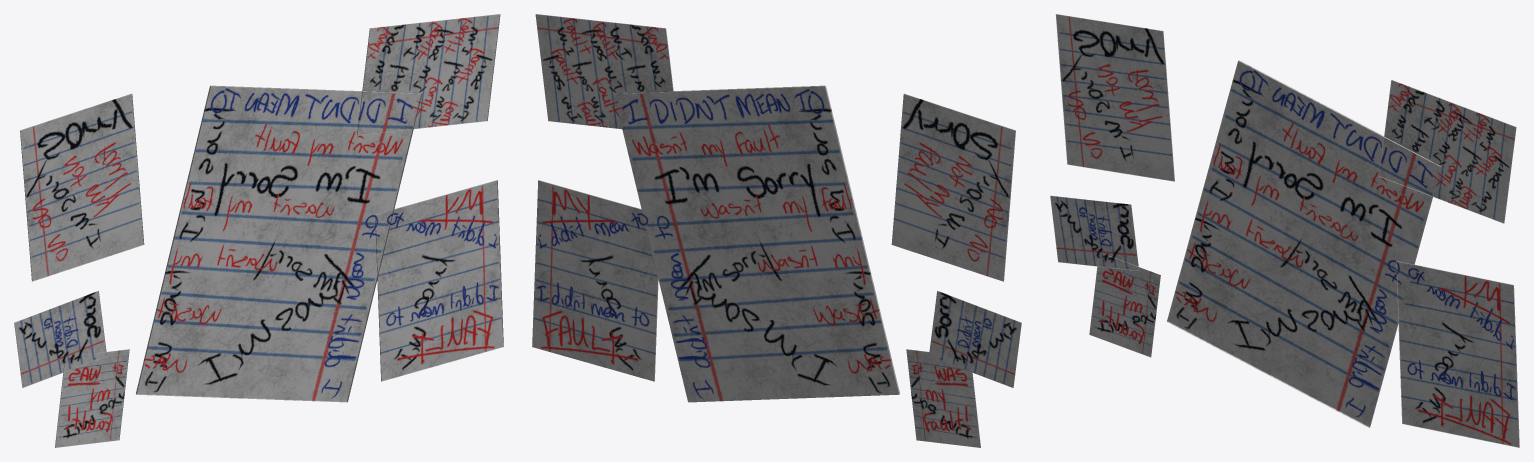
Rendered from Posters_Scribbles_Textured.fbx.
The picture shows the model from 3 angles, left to right: view 1: azimuth 30°, elevation 25°; view 2: azimuth 150°, elevation 25°; view 3: azimuth 330°, elevation 25°; orthographic projection. The views are drawn at different scales.
Visible parts, largest first — view 1: polySurface20, polySurface21, polySurface17, polySurface16, polySurface18, polySurface19; view 2: polySurface20, polySurface21, polySurface17, polySurface16, polySurface18, polySurface19; view 3: polySurface20, polySurface21, polySurface17, polySurface16, polySurface18, polySurface19.
Boxes of the visible parts, <box> form: polySurface20: <box>136,85,421,402</box>; polySurface21: <box>375,180,503,381</box>; polySurface17: <box>20,93,144,281</box>; polySurface16: <box>357,14,500,135</box>; polySurface18: <box>14,291,106,387</box>; polySurface19: <box>55,349,129,447</box>; polySurface20: <box>614,85,899,402</box>; polySurface21: <box>532,180,658,381</box>; polySurface17: <box>891,93,1015,281</box>; polySurface16: <box>535,14,673,129</box>; polySurface18: <box>929,291,1021,387</box>; polySurface19: <box>906,349,980,447</box>; polySurface20: <box>1167,60,1440,427</box>; polySurface21: <box>1396,261,1519,447</box>; polySurface17: <box>1055,14,1174,181</box>; polySurface16: <box>1379,80,1516,223</box>; polySurface18: <box>1050,195,1139,270</box>; polySurface19: <box>1089,252,1160,357</box>.
Bounding box in the file's own units: 6.23 × 4.48 × 0.0216.
1 material, 1 textured.
